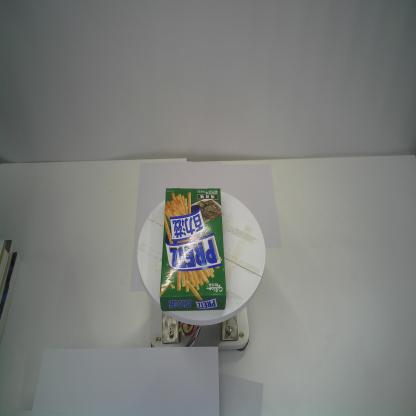Dessert: (159, 187, 227, 312)
